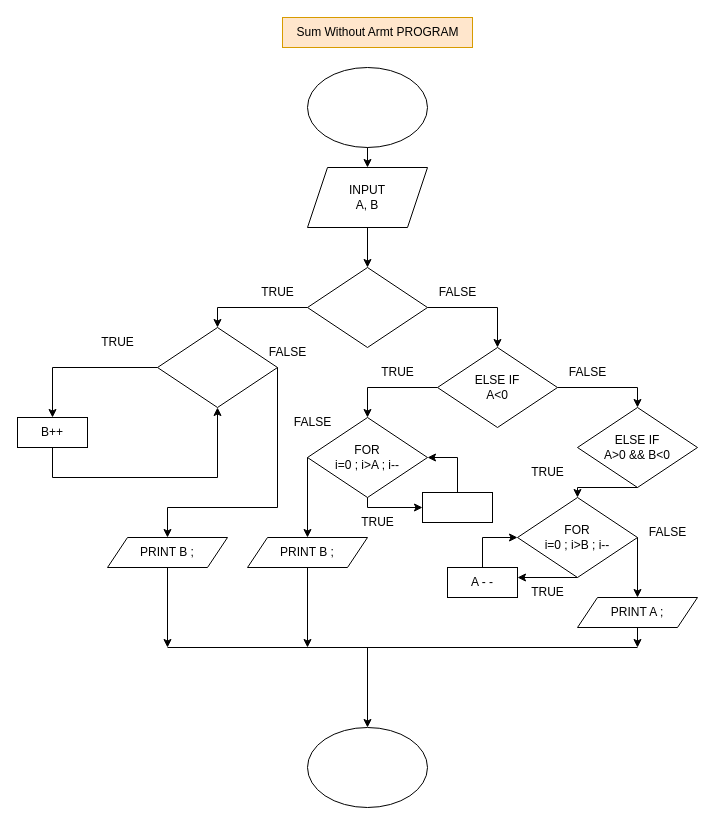
The diagram is 715 pixels wide and 825 high, and some of its shapes have lost their labels. The centre of each missing label's shape, as x and y in pixels:
"B - -" belongs at (x=457, y=507).
"FOR i=1 ; i<=A ; i++" belongs at (x=217, y=367).
"IF A>0 && B>0" belongs at (x=367, y=307).
"START" belongs at (x=367, y=107).
"STOP" belongs at (x=367, y=767).
